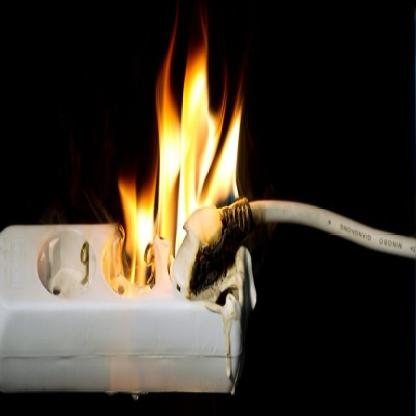fire: (119, 11, 251, 278)
